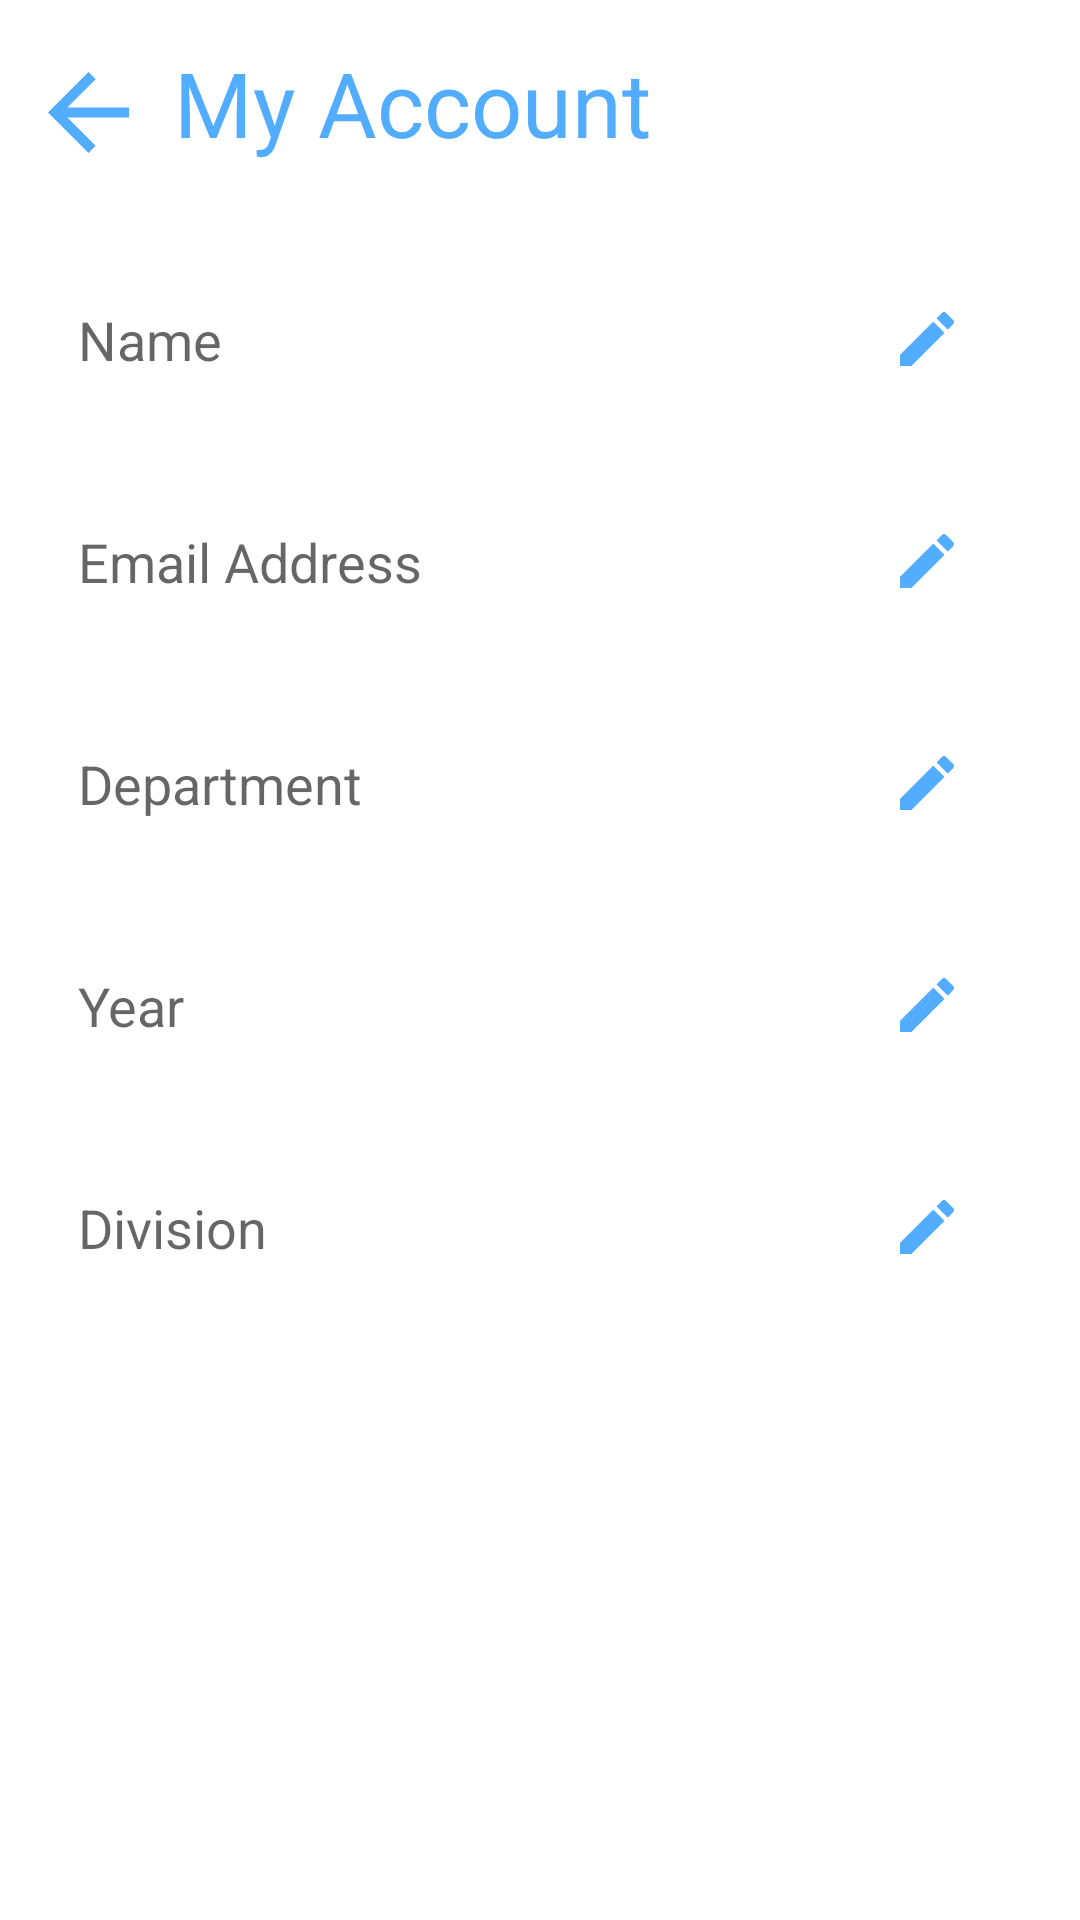

Where to tap for icons on this 1080×1920 app screen, as point (x, y):
call rejection back: point (88, 112)
pen: point (927, 339), point (927, 561), point (927, 783), point (927, 1005), point (927, 1227)
